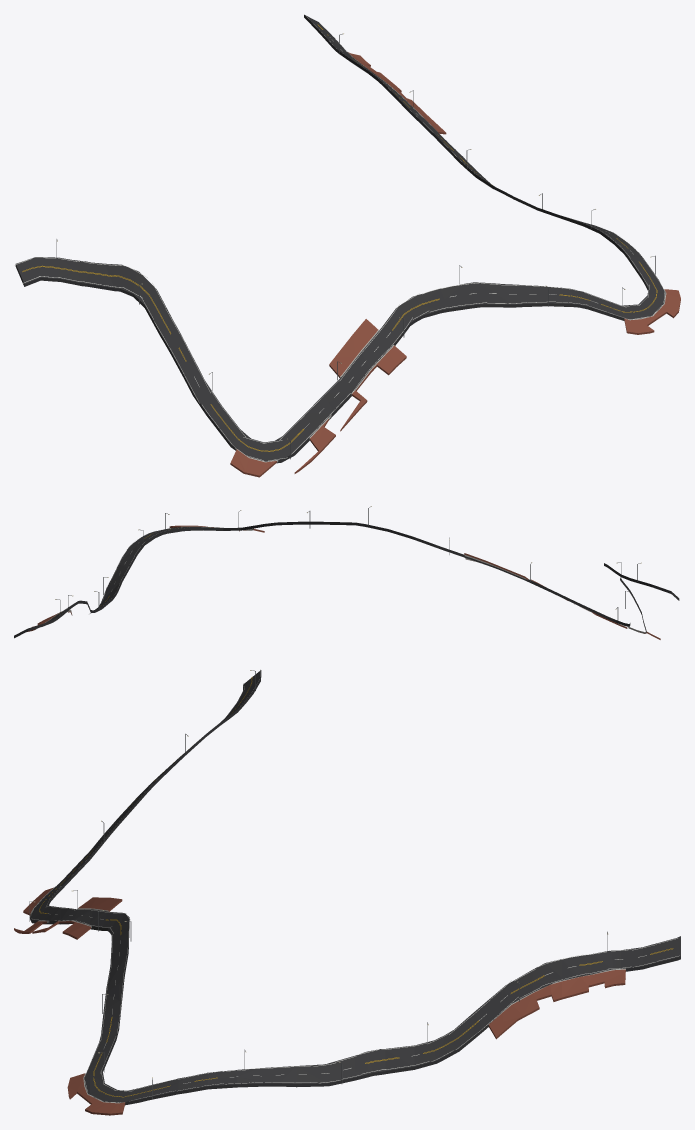
The picture shows the model from 3 angles, top to bottom: view 1: azimuth 30°, elevation 25°; view 2: azimuth 150°, elevation 25°; view 3: azimuth 270°, elevation 25°; orthographic projection. The views are drawn at different scales.
Size of the model in its own units: 250 by 72.65 by 226.
